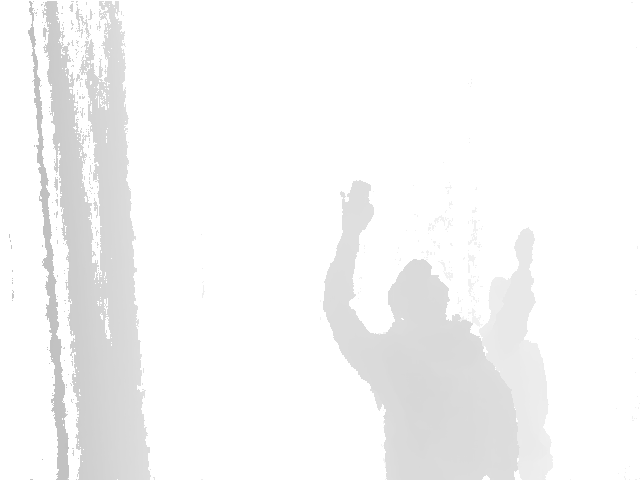hand: (336, 175, 376, 237), (512, 226, 536, 271)
head: (390, 258, 447, 327), (484, 278, 533, 339)
person: (321, 169, 494, 480), (482, 226, 554, 480)
